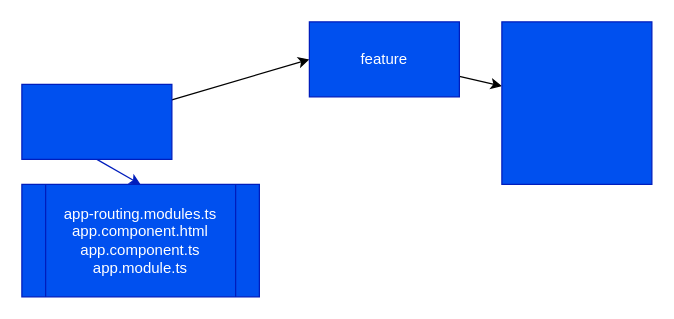
This 674x319 diagram has some shape labels left out. The centre of each missing label's shape, as x and y in pixels:
app: (96,121)
Shop: { components, models, routes, services }: (576,102)
